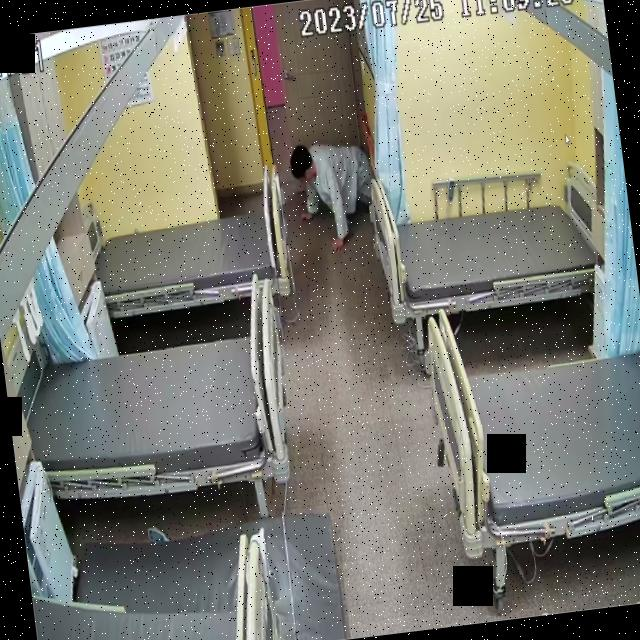bed: (420, 285, 640, 555), (17, 323, 296, 506), (368, 178, 616, 324), (91, 197, 291, 317)
fall: (286, 134, 386, 254)
patient: (286, 136, 382, 254)
